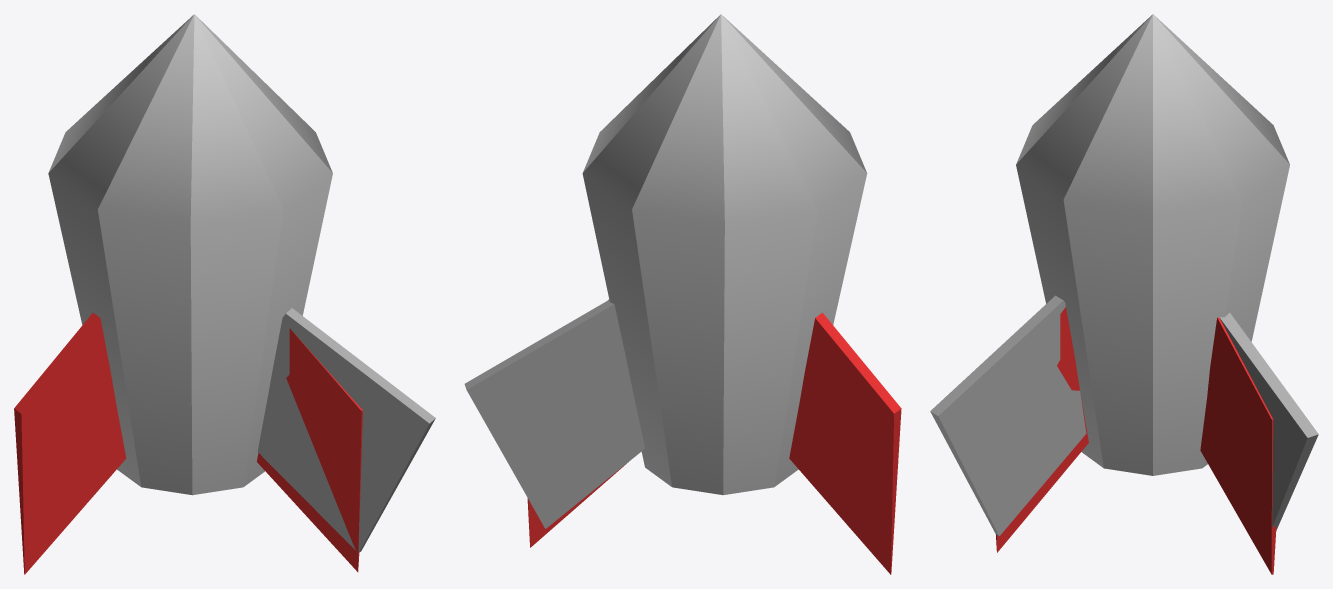
Rendered from rocke.fbx.
3 views of the same model, side by side, from view 1: azimuth 30°, elevation 25°; view 2: azimuth 150°, elevation 25°; view 3: azimuth 270°, elevation 25° (orthographic). The views are drawn at different scales.
Parts seen in each view (by area): view 1: polySurface10, polySurface3; view 2: polySurface10, polySurface4; view 3: polySurface10, polySurface3, polySurface4.
Part boxes in pixels (left/top/right/bottom): polySurface10: left=14, top=14, right=362, bottom=574; polySurface3: left=257, top=308, right=435, bottom=552; polySurface10: left=527, top=14, right=901, bottom=574; polySurface4: left=464, top=300, right=644, bottom=528; polySurface10: left=996, top=14, right=1289, bottom=574; polySurface3: left=930, top=295, right=1086, bottom=536; polySurface4: left=1219, top=312, right=1318, bottom=530.
Size of the model in its own units: 4.33 by 6.09 by 4.29.
